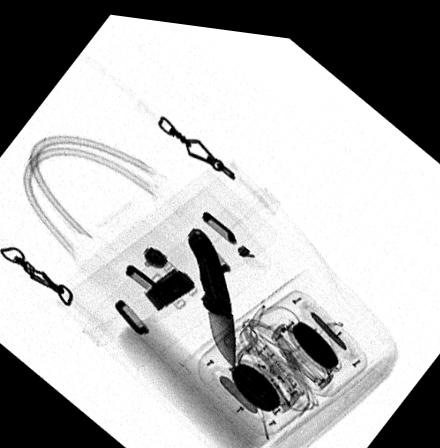Knife: (185, 220, 236, 362)
